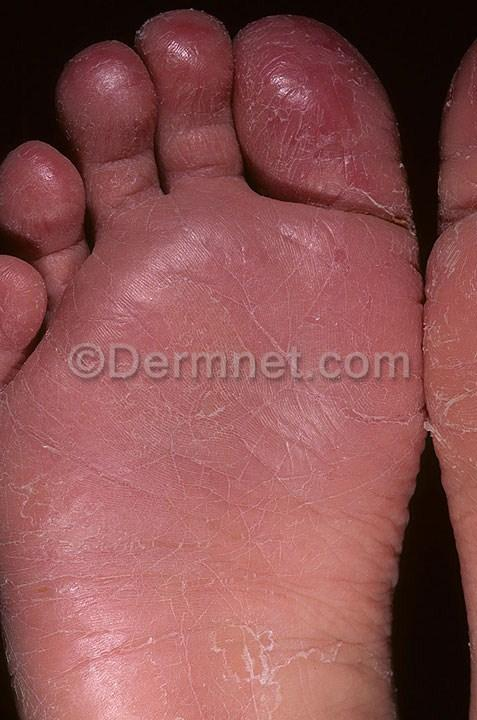Eczema: (119, 473, 275, 597), (0, 476, 118, 622), (258, 483, 413, 584), (307, 329, 422, 463), (100, 588, 208, 714), (202, 243, 309, 360), (238, 361, 330, 496), (197, 603, 302, 720), (116, 371, 238, 469), (0, 384, 115, 478), (244, 29, 338, 139), (2, 623, 107, 720), (108, 266, 208, 362), (298, 578, 390, 681), (312, 227, 403, 324), (331, 89, 400, 205), (69, 64, 156, 147), (20, 313, 104, 390), (90, 224, 177, 297), (160, 25, 233, 111), (248, 129, 332, 197), (167, 182, 237, 254), (235, 188, 310, 250), (422, 280, 477, 363), (432, 364, 475, 468), (100, 156, 169, 216), (170, 126, 237, 186), (22, 151, 66, 216), (45, 231, 90, 292), (439, 137, 477, 206), (442, 217, 477, 283), (8, 275, 50, 323), (47, 76, 87, 123), (0, 165, 21, 219), (12, 214, 47, 241), (88, 46, 128, 68)
